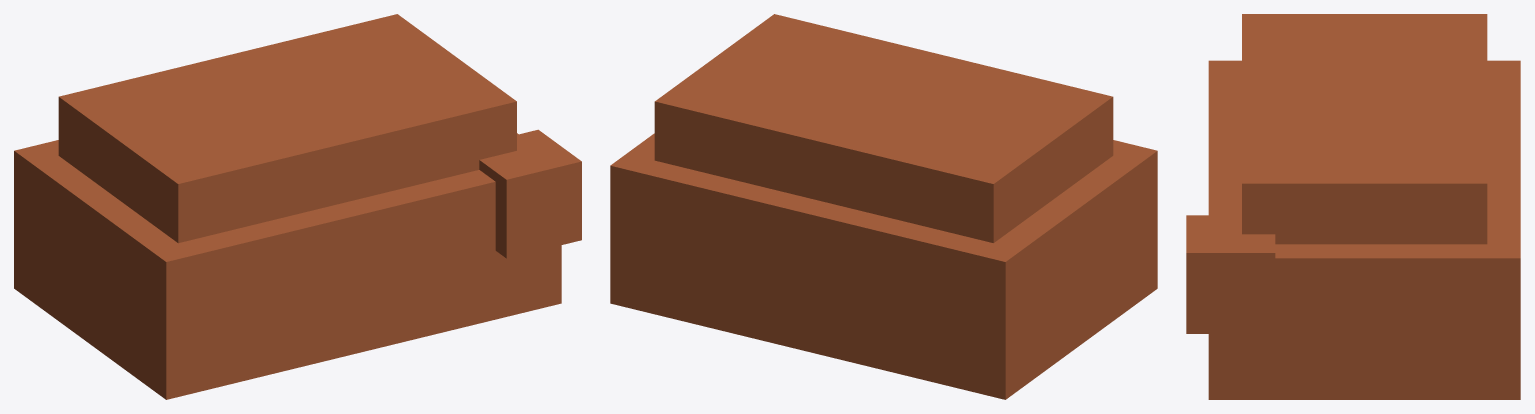
The model's file is product_cured_fillet.glb.
3 views of the same model, side by side, from view 1: azimuth 30°, elevation 25°; view 2: azimuth 150°, elevation 25°; view 3: azimuth 270°, elevation 25° (orthographic). The views are drawn at different scales.
Visible parts, largest first — view 1: product.cured_fillet; view 2: product.cured_fillet; view 3: product.cured_fillet.
Boxes of the visible parts, x1,y1,x2,y2 form: product.cured_fillet: [14, 14, 581, 399]; product.cured_fillet: [610, 14, 1157, 399]; product.cured_fillet: [1186, 14, 1520, 399].
Size of the model in its own units: 0.24 by 0.1116 by 0.1674.
